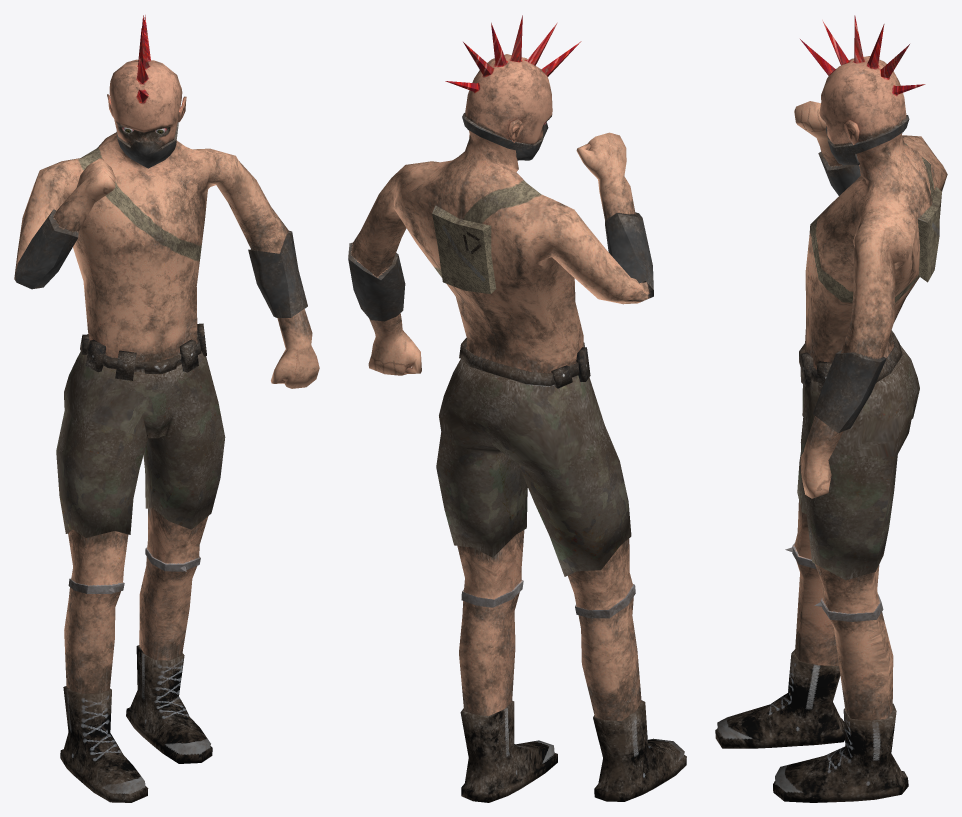
The model's file is Anim_perder_1_npc2.0050.obj.
3 views of the same model, side by side, from view 1: azimuth 30°, elevation 25°; view 2: azimuth 150°, elevation 25°; view 3: azimuth 270°, elevation 25° (orthographic). The views are drawn at different scales.
Parts seen in each view (by area): view 1: polySurface1; view 2: polySurface1; view 3: polySurface1.
Boxes of the visible parts, x1,y1,x2,y2 form: polySurface1: (14,15,319,802); polySurface1: (348,15,686,802); polySurface1: (715,15,947,802).
Size of the model in its own units: 4.15 by 10.08 by 2.76.
Materials: 2 (2 with a texture image).
